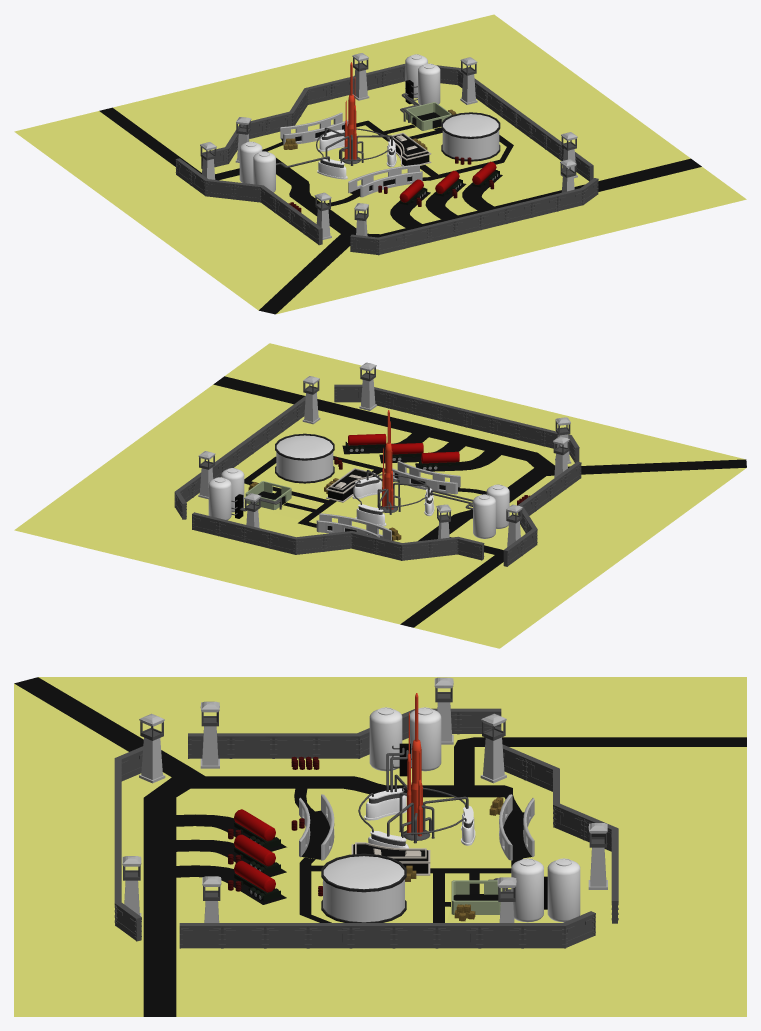
Rendered from Level1 - materials.FBX.
The picture shows the model from 3 angles, top to bottom: view 1: azimuth 30°, elevation 25°; view 2: azimuth 150°, elevation 25°; view 3: azimuth 270°, elevation 25°; orthographic projection. The views are drawn at different scales.
Parts seen in each view (by area): view 1: Floor, Refinery, Hallway1, Hallway2, Oiltank4, Valveroom, System-room, Oiltank005, Oiltank2, Guardpost6, Guardpost5, Guardpost2 (+3 smaller); view 2: Floor, Refinery, Hallway1, Hallway2, Oiltank2, Oiltank006, System-room, Valveroom, Guardpost7, Oiltank005, Guardpost8, Guardpost6 (+8 smaller); view 3: Floor, Refinery, Oiltank006, Oiltank4, Oiltank005, Hallway2, Hallway1, Oiltank2, Valveroom, Guardpost1, Guardpost4, System-room (+31 smaller).
Part boxes in pixels (x1,y1,x2,y2): Floor: (14,14,746,314); Refinery: (441,112,500,161); Hallway1: (348,164,422,197); Hallway2: (280,112,348,145); Oiltank4: (418,63,440,105); Valveroom: (406,102,451,130); System-room: (387,133,431,166); Oiltank005: (253,151,275,192); Oiltank2: (239,141,262,183); Guardpost6: (460,57,477,104); Guardpost5: (352,53,369,100); Guardpost2: (314,192,331,239); Floor: (14,343,746,648); Refinery: (275,433,334,483); Hallway1: (392,461,460,494); Hallway2: (316,513,391,540); Oiltank2: (473,494,495,538); Oiltank006: (208,477,231,520); System-room: (326,468,378,502); Valveroom: (245,481,291,509); Guardpost7: (302,376,320,424); Oiltank005: (486,484,509,528); Guardpost8: (359,362,376,410); Guardpost6: (198,451,215,499); Floor: (14,677,746,1016); Refinery: (321,853,406,922); Oiltank006: (547,858,580,922); Oiltank4: (511,858,543,922); Oiltank005: (369,707,402,771); Hallway2: (499,794,534,860); Hallway1: (299,794,334,860); Oiltank2: (409,707,441,771); Valveroom: (451,880,501,914); Guardpost1: (139,713,165,783); Guardpost4: (480,713,506,783); System-room: (351,842,430,875).
Size of the model in its own units: 114 by 22.3 by 104.
